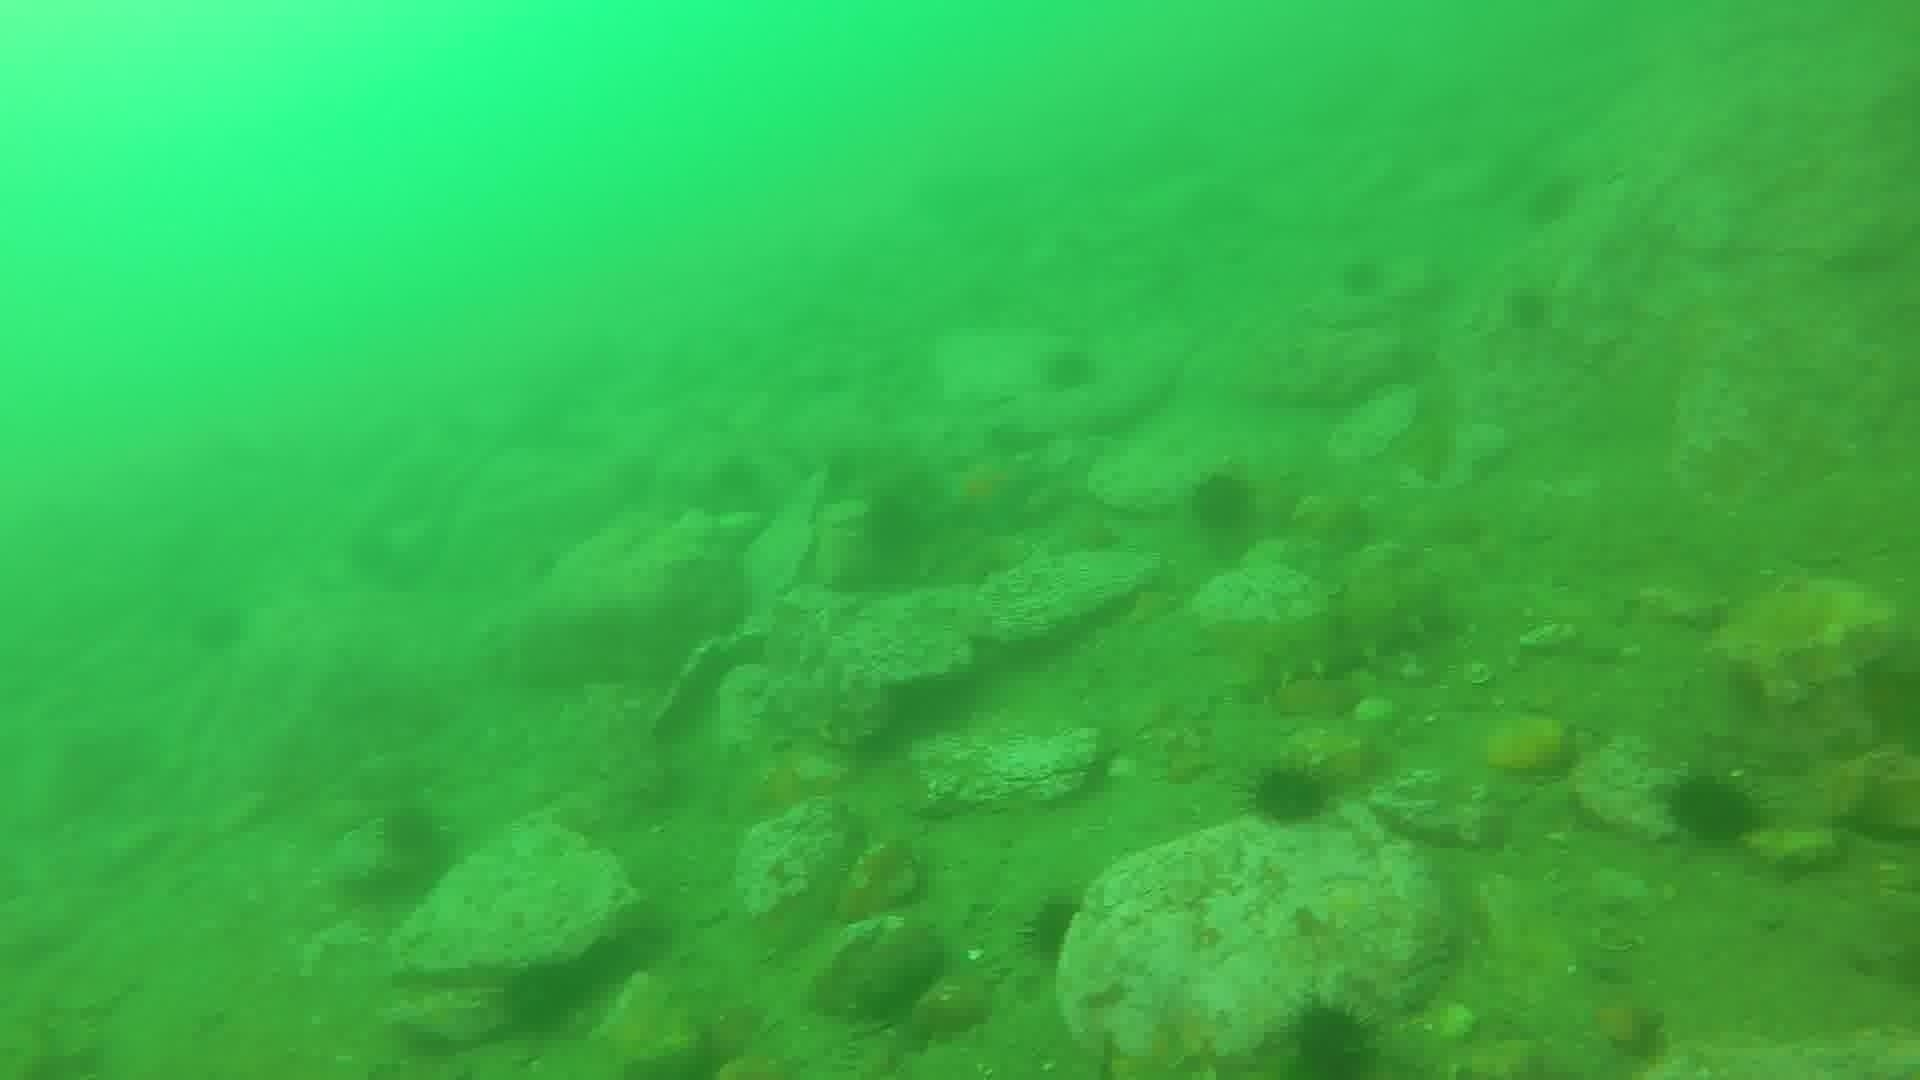echinus: (495, 952, 597, 1039), (1662, 769, 1766, 852), (1279, 997, 1385, 1077), (1244, 757, 1338, 832), (855, 487, 936, 570), (1015, 889, 1089, 969), (373, 800, 455, 873), (1184, 465, 1261, 541), (185, 599, 252, 658), (1520, 170, 1584, 231), (1036, 342, 1102, 397), (1501, 282, 1557, 338), (1335, 252, 1390, 302)
holothurian: (1240, 574, 1458, 696)
starfish: (934, 446, 1043, 535)
